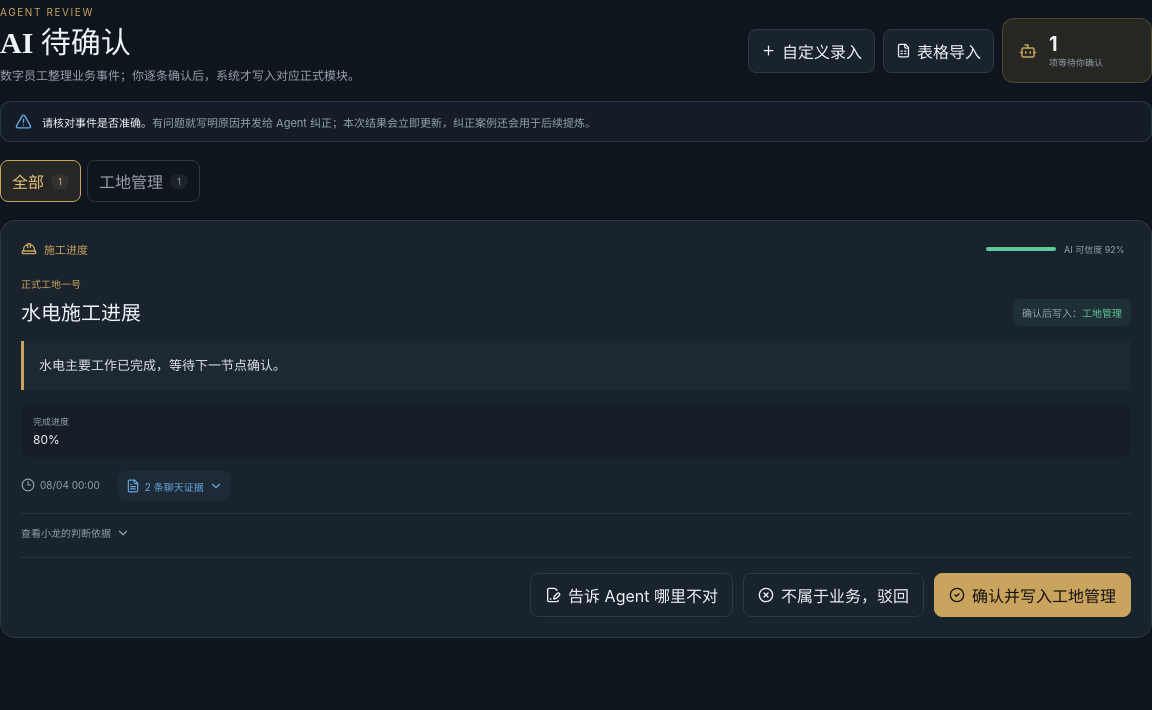
Scenario: AgentReviewPage › renders a human-readable business event without technical message ids
This screenshot has width=1152, height=710.
Expected: the heading "水电施工进展" is shown, [21, 297, 141, 326]
Expected: the text "正式工地一号" is shown, [21, 278, 81, 290]
Click the button "2 条聊天证据" at {"x": 174, "y": 486}, box [118, 471, 231, 501]
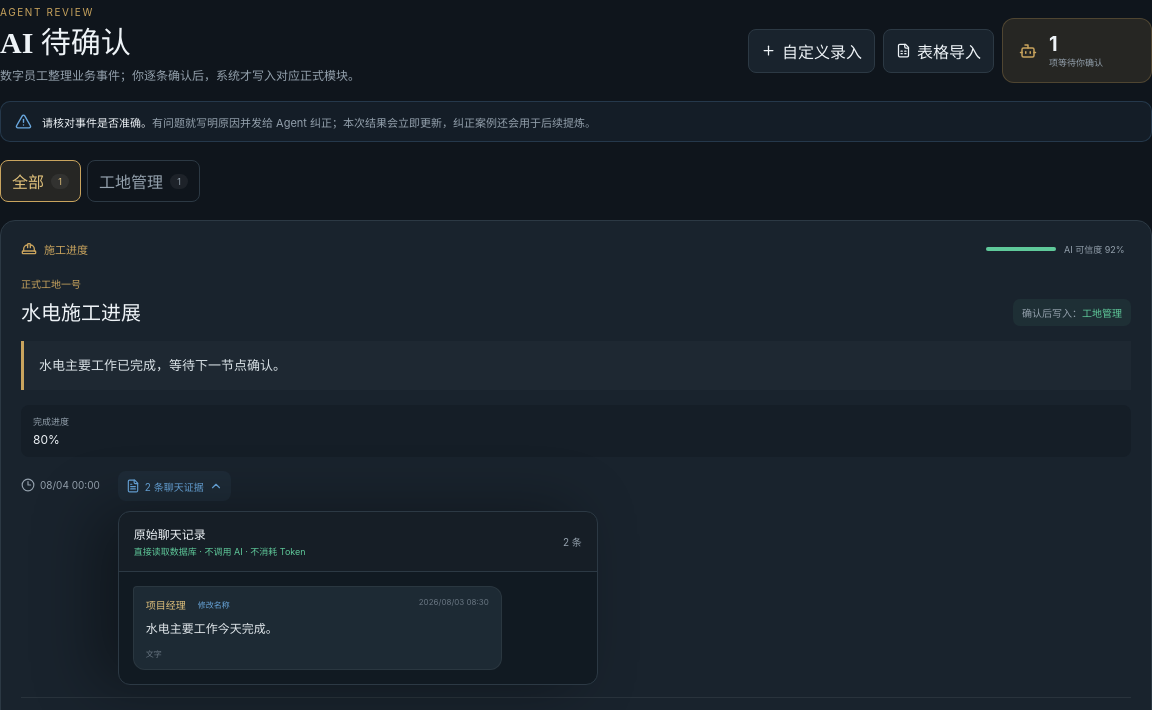
Expected: the text "水电主要工作今天完成。" is shown, [146, 621, 278, 636]
Expected: the text "直接读取数据库 · 不调用 AI · 不消耗 Token" is shown, [134, 545, 306, 558]
